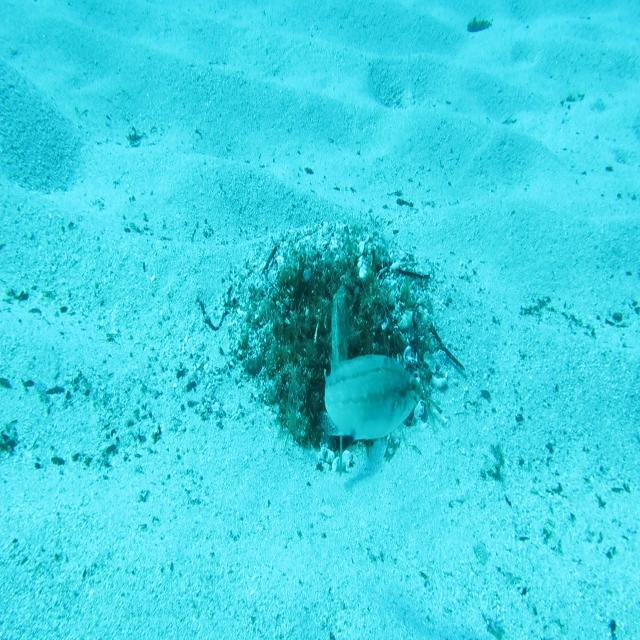FAN: (323, 282, 359, 481)
core_nest: (307, 275, 359, 308)
female: (318, 349, 424, 443)
nest: (227, 212, 458, 484)
vegetation: (465, 18, 496, 34)
